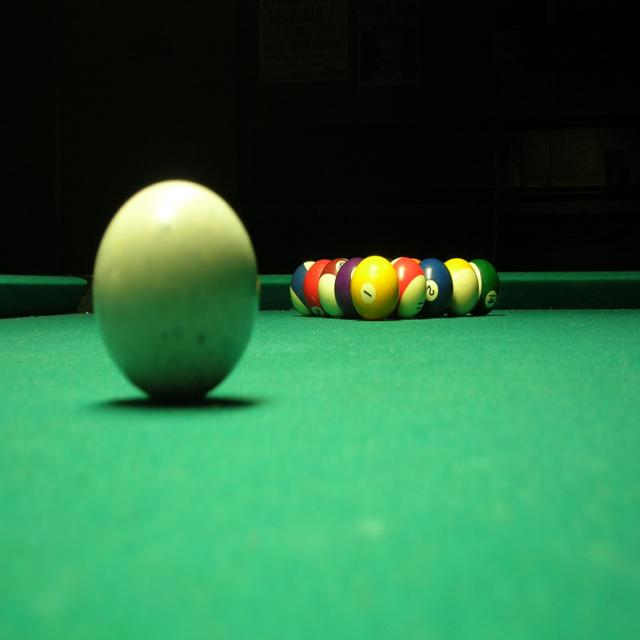Ball: (92, 180, 500, 398)
Billiard table: (0, 180, 640, 640)
